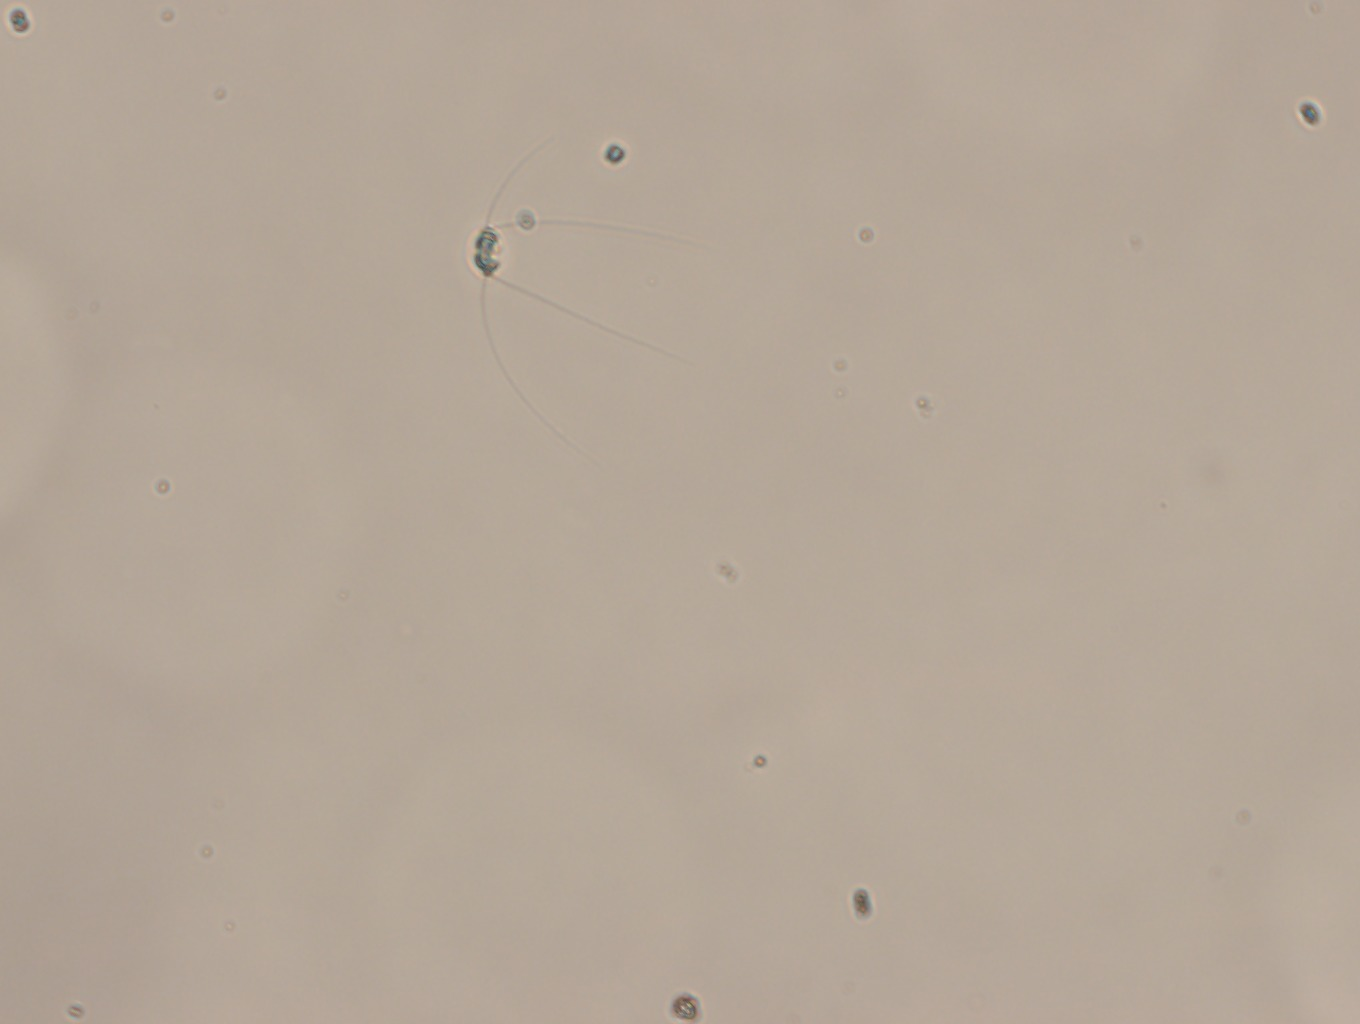chaetoceros: (461, 112, 707, 447)
